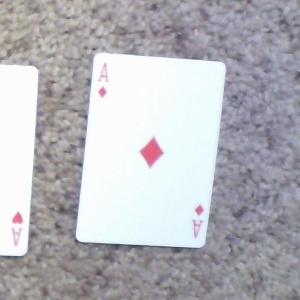card: (73, 51, 226, 249)
